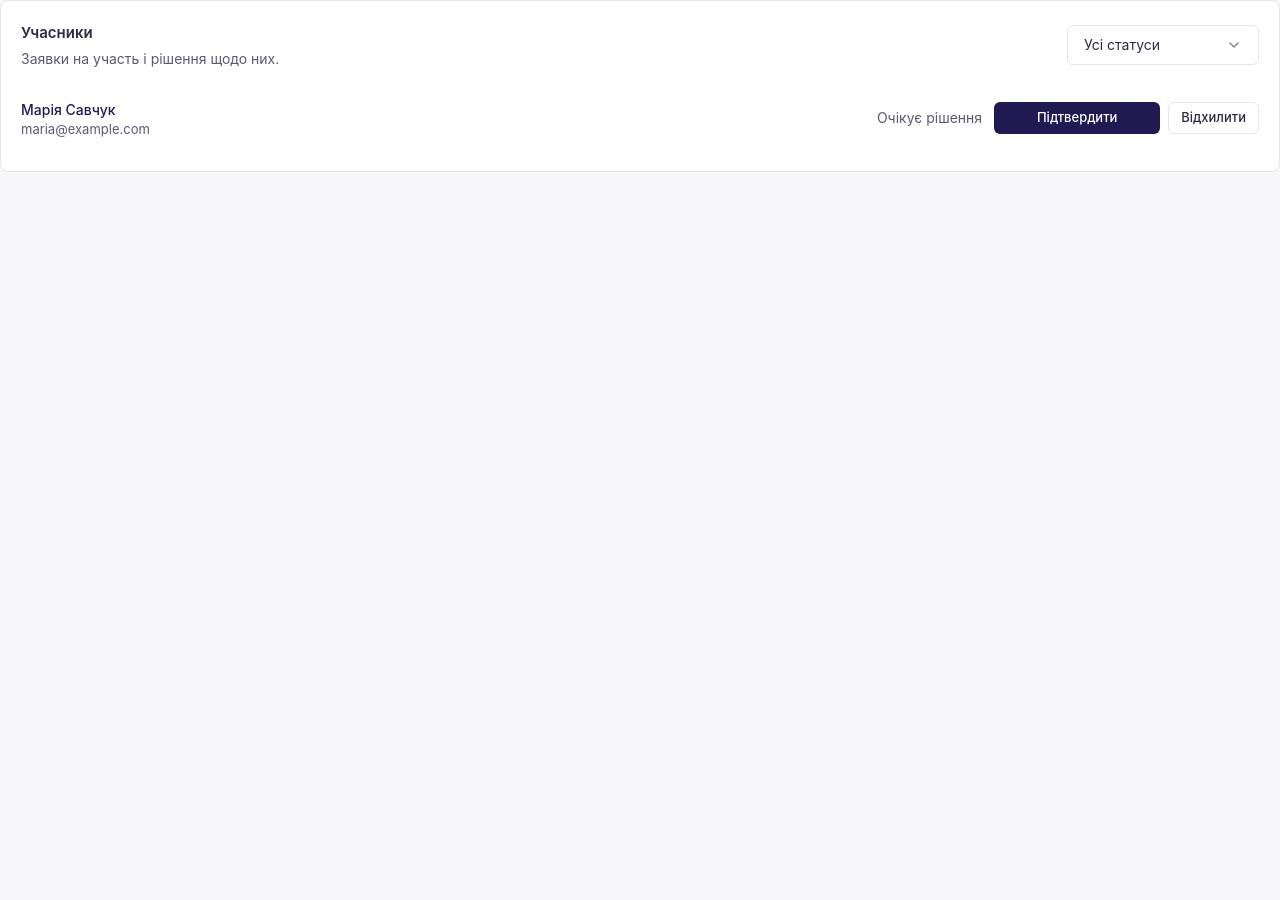
EventParticipantsCard › confirms rejection before sending the decision
This screenshot has width=1280, height=900.
Step 1. Click the button named "Відхилити Марія Савчук" → click(1214, 118), box [1168,102,1259,134]
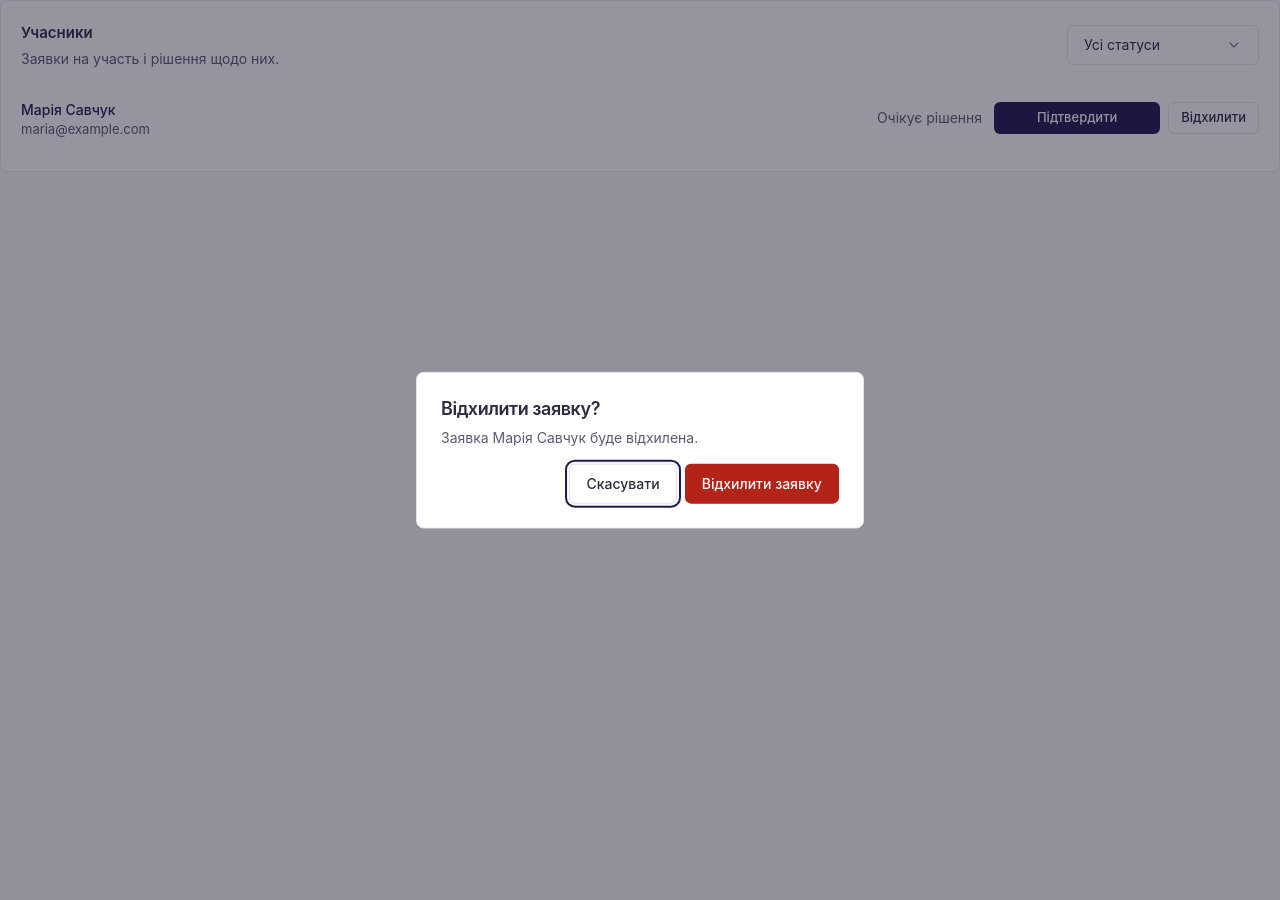
Step 2. Click the button "Відхилити заявку" → click(762, 483), box [685,463,839,503]
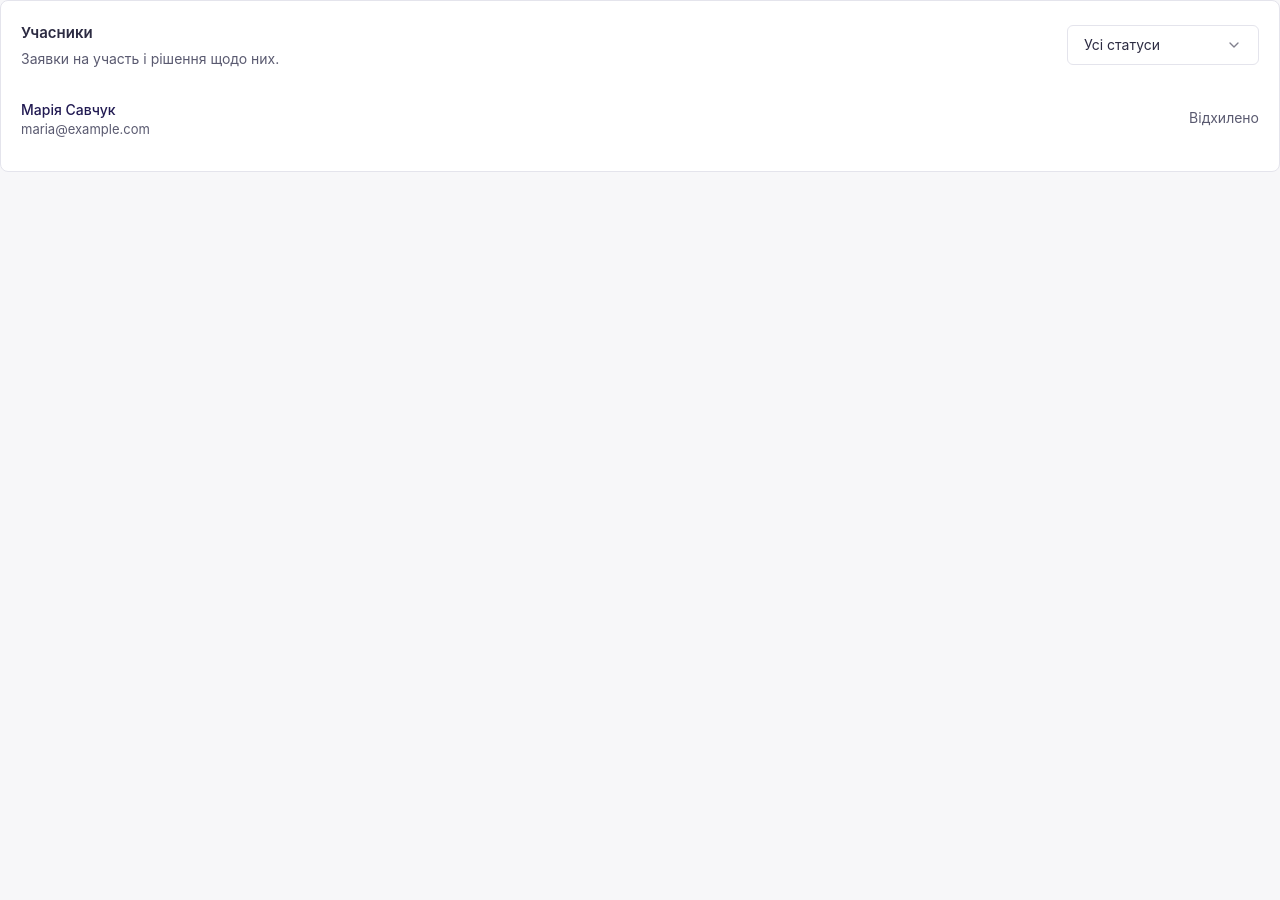
Expected: the text "Відхилено" is shown, [1189,108,1259,128]
